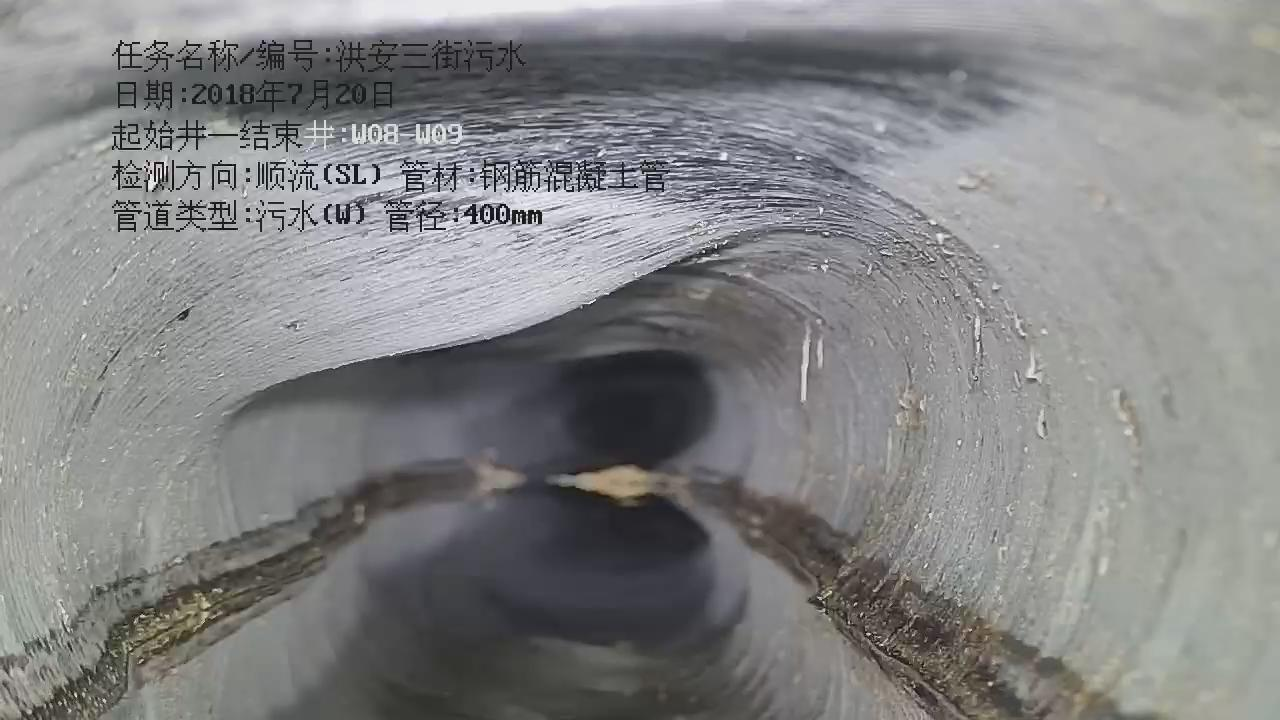BX: (161, 200, 985, 405)
